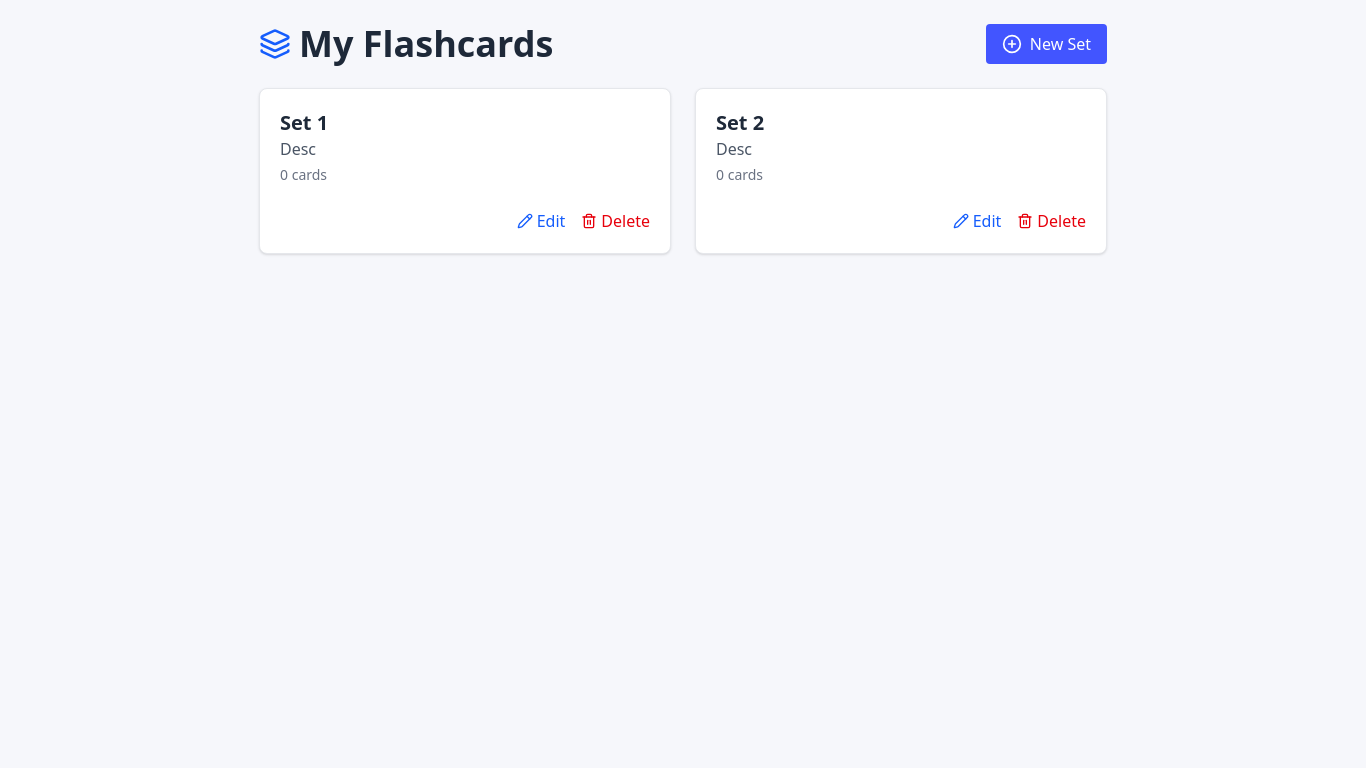
Test: HomePage › when clicking delete shows the modal
The width and height of the screenshot is (1366, 768).
What coordinates should you click on to do the following:
click the button "Delete" below "Set 1"
I would click on:
 (616, 221)
Its box is [581, 209, 650, 233].
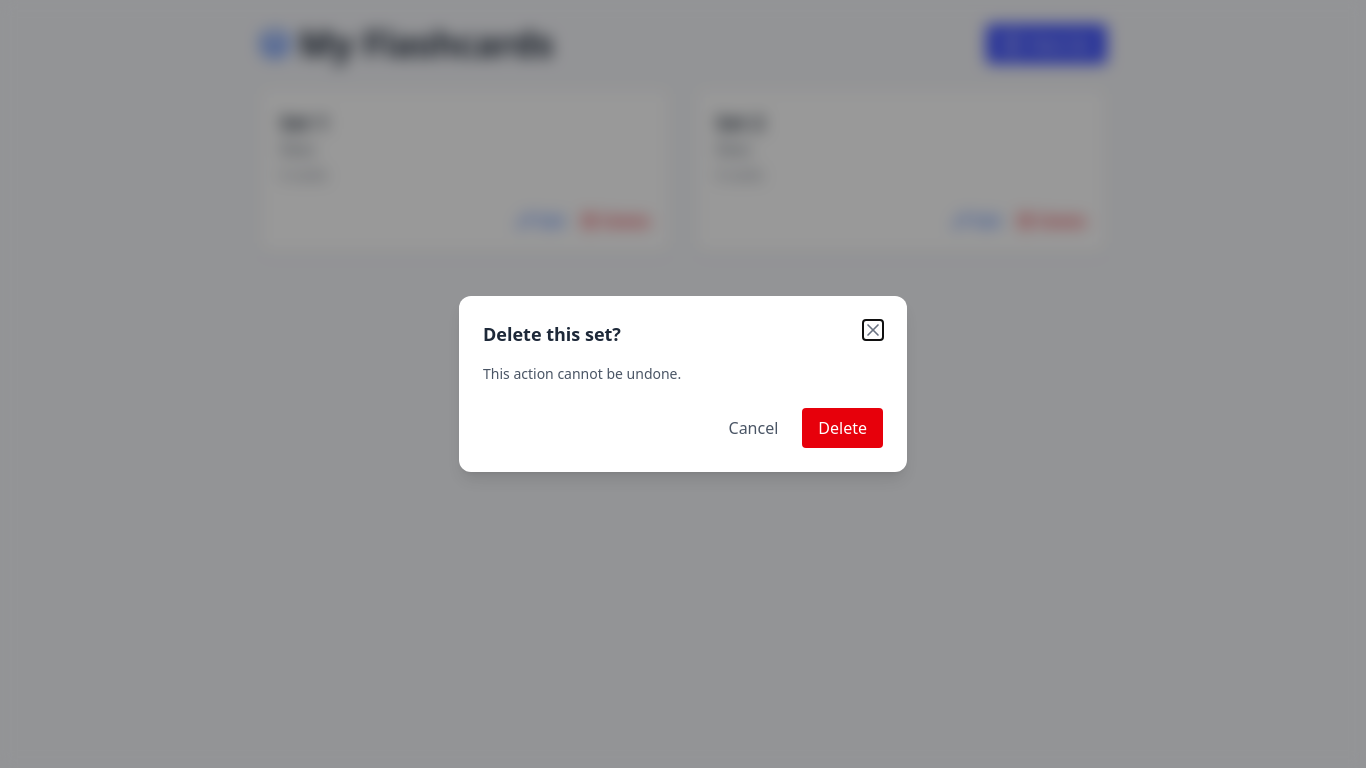
Now the button "Cancel" is shown, box [712, 408, 794, 448]
